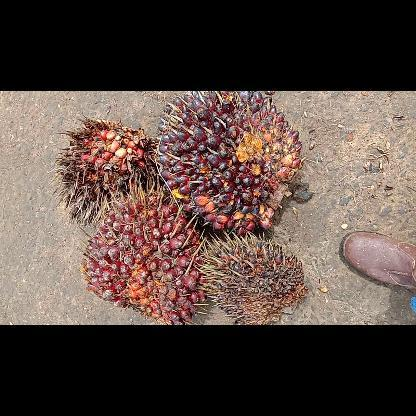Kurang masak: (154, 91, 307, 239)
TBS abnormal: (195, 228, 309, 324)
TBS masak: (80, 192, 206, 324)
Terlalu masak: (48, 115, 160, 225)
